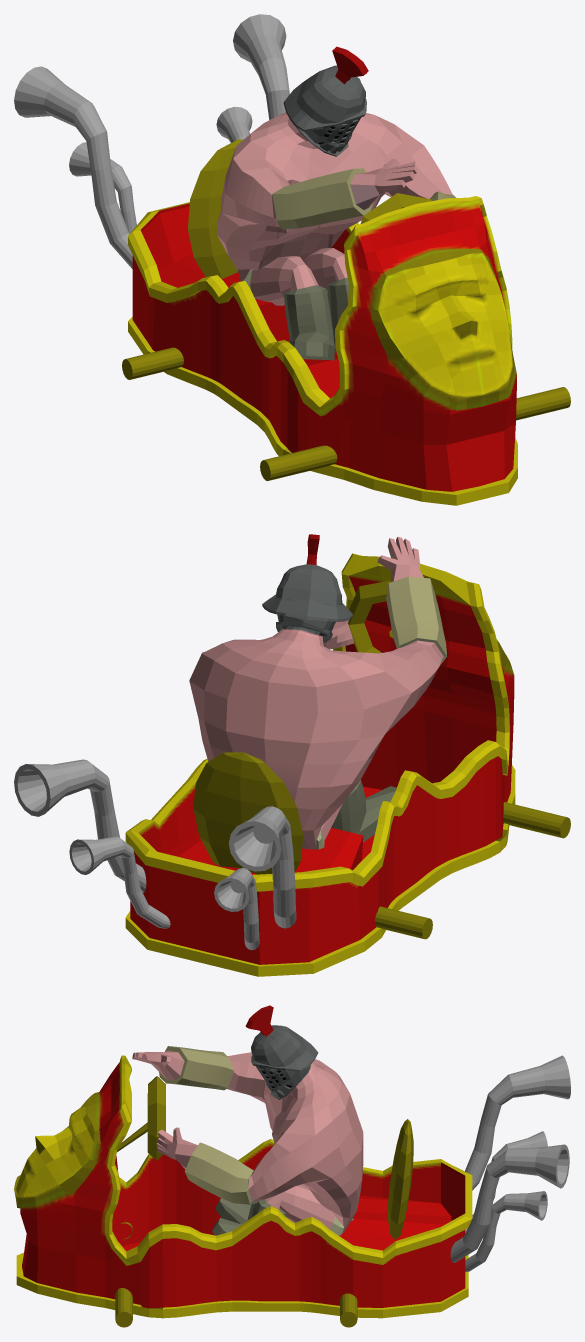
Rendered from gladiVacile_000511.obj.
3 views of the same model, one above another, from view 1: azimuth 30°, elevation 25°; view 2: azimuth 150°, elevation 25°; view 3: azimuth 270°, elevation 25° (orthographic). The views are drawn at different scales.
Parts seen in each view (by area): view 1: GladiChasis_GladiChasisH, Gadiador_Gladiador_H.001, GladiTubos_GladiTubosH, GladiVolante_GladiVolanteH; view 2: GladiChasis_GladiChasisH, Gadiador_Gladiador_H.001, GladiTubos_GladiTubosH, GladiVolante_GladiVolanteH; view 3: GladiChasis_GladiChasisH, Gadiador_Gladiador_H.001, GladiTubos_GladiTubosH, GladiVolante_GladiVolanteH.
Boxes of the visible parts, left/top/right/bottom form: GladiChasis_GladiChasisH: left=128, top=196, right=517, bottom=505; Gadiador_Gladiador_H.001: left=217, top=46, right=455, bottom=360; GladiTubos_GladiTubosH: left=14, top=14, right=289, bottom=268; GladiVolante_GladiVolanteH: left=122, top=139, right=570, bottom=480; GladiChasis_GladiChasisH: left=125, top=553, right=515, bottom=976; Gadiador_Gladiador_H.001: left=189, top=534, right=446, bottom=849; GladiTubos_GladiTubosH: left=14, top=759, right=296, bottom=950; GladiVolante_GladiVolanteH: left=193, top=580, right=570, bottom=939; GladiChasis_GladiChasisH: left=14, top=1055, right=472, bottom=1318; Gadiador_Gladiador_H.001: left=132, top=1005, right=363, bottom=1235; GladiTubos_GladiTubosH: left=450, top=1055, right=570, bottom=1271; GladiVolante_GladiVolanteH: left=115, top=1076, right=413, bottom=1327.
Size of the model in its own units: 5.46 by 5.81 by 10.78.
